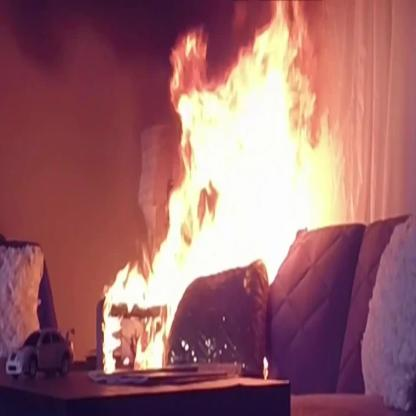fire: (98, 6, 349, 377), (228, 1, 280, 81)
smoke: (6, 0, 269, 258)
